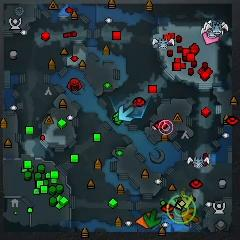Other: (167, 195, 195, 224), (158, 120, 174, 134)
p5: (136, 212, 151, 229)
x1: (203, 33, 219, 45)
x2: (175, 191, 193, 208)
x3: (118, 105, 134, 121)
x4: (144, 209, 162, 228)
x5: (181, 208, 199, 226)
